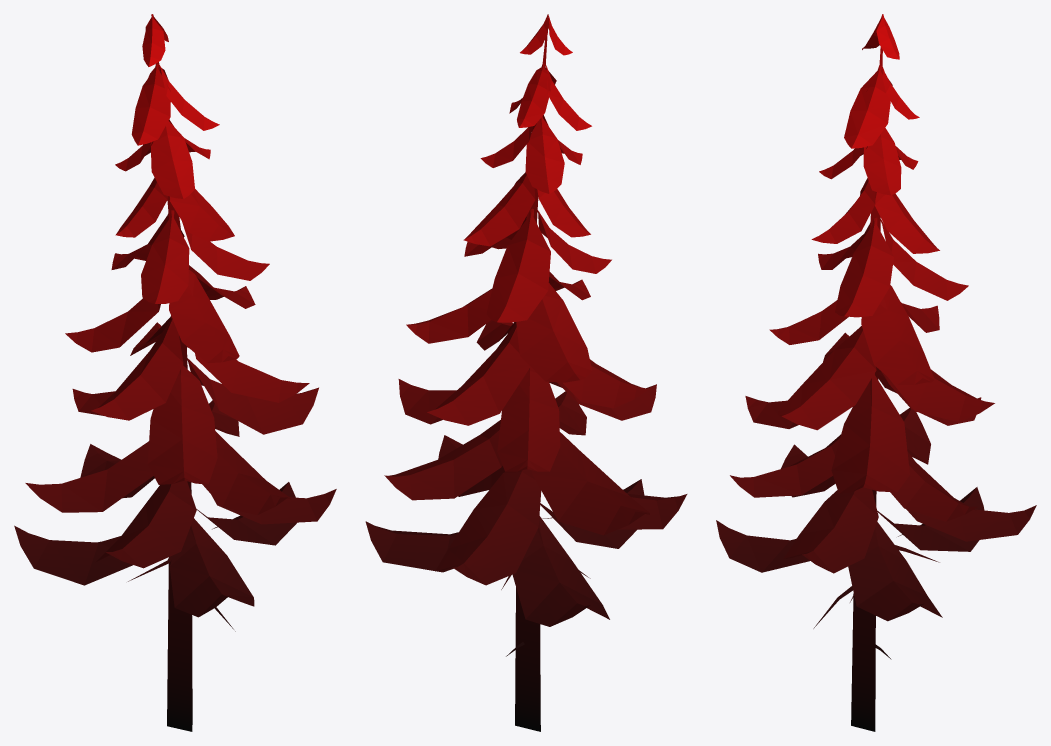
File: SM_TreeSpruce01.fbx
3 views of the same model, side by side, from view 1: azimuth 30°, elevation 25°; view 2: azimuth 150°, elevation 25°; view 3: azimuth 270°, elevation 25° (orthographic). The views are drawn at different scales.
Parts seen in each view (by area): view 1: SM_TreeSpruce01; view 2: SM_TreeSpruce01; view 3: SM_TreeSpruce01.
Boxes of the visible parts, x1,y1,x2,y2 form: SM_TreeSpruce01: [14, 14, 336, 731]; SM_TreeSpruce01: [365, 14, 687, 731]; SM_TreeSpruce01: [716, 14, 1036, 731].
Bounding box in the file's own units: 174 × 438 × 182.
